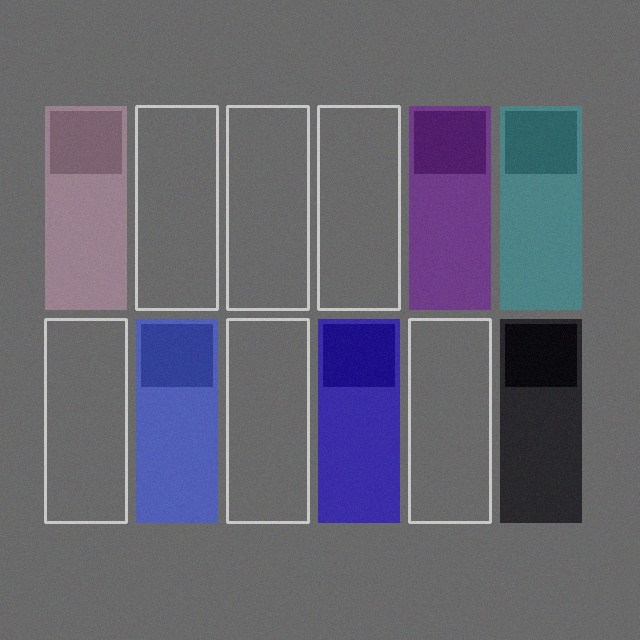space-empty: (136, 106, 217, 309), (227, 106, 308, 309), (318, 106, 399, 309), (45, 319, 126, 522), (227, 319, 308, 522), (409, 319, 490, 522)
space-occupied: (45, 106, 126, 309), (409, 106, 490, 309), (500, 106, 581, 309), (136, 319, 217, 522), (318, 319, 399, 522), (500, 319, 581, 522)
